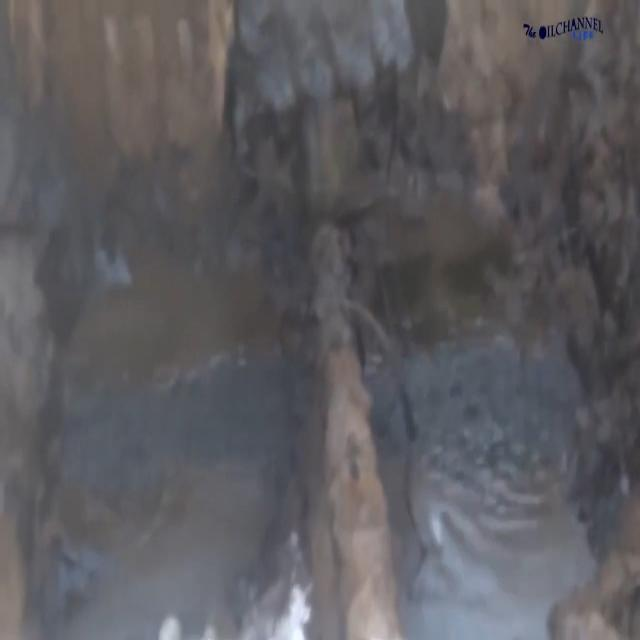spillage: (41, 224, 582, 640)
